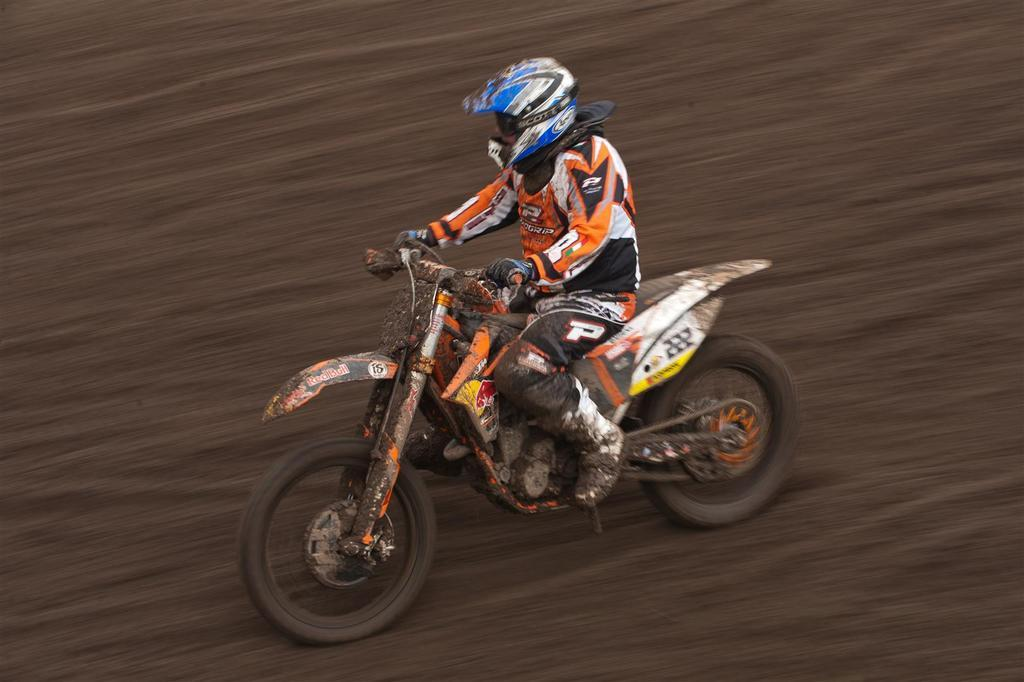helmet: (462, 56, 577, 170)
